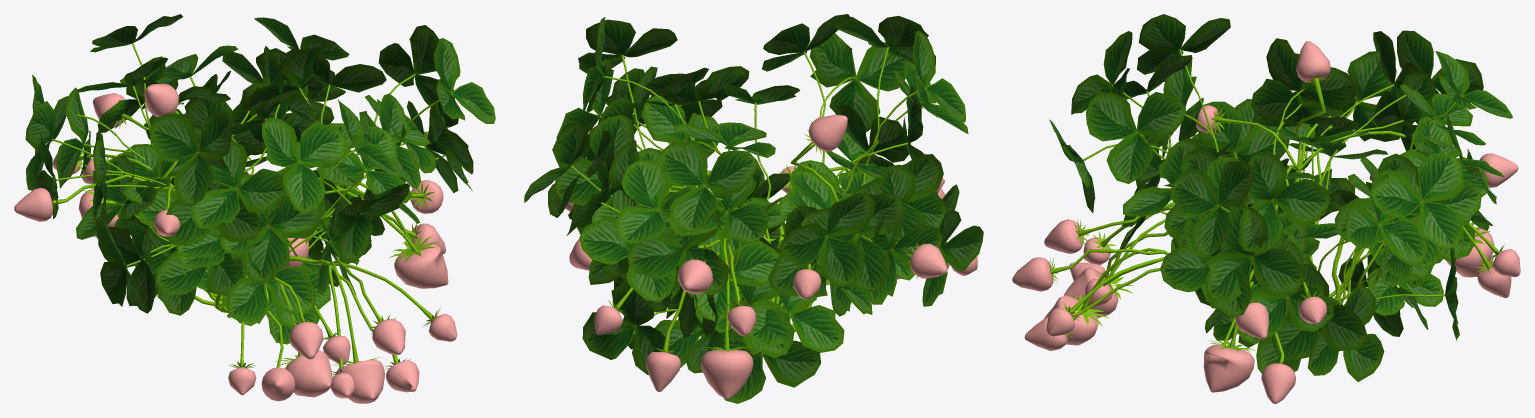
File: strawberry_halfripe.dae
The picture shows the model from 3 angles, left to right: view 1: azimuth 30°, elevation 25°; view 2: azimuth 150°, elevation 25°; view 3: azimuth 270°, elevation 25°; orthographic projection. The views are drawn at different scales.
Parts seen in each view (by area): view 1: Strawberry_001; view 2: Strawberry_001; view 3: Strawberry_001.
Boxes of the visible parts, x1,y1,x2,y2 form: Strawberry_001: (14, 14, 495, 403); Strawberry_001: (524, 14, 983, 403); Strawberry_001: (1012, 14, 1520, 403).
Size of the model in its own units: 0.4843 by 0.5047 by 0.3214.
Materials: 5 (5 with a texture image).
